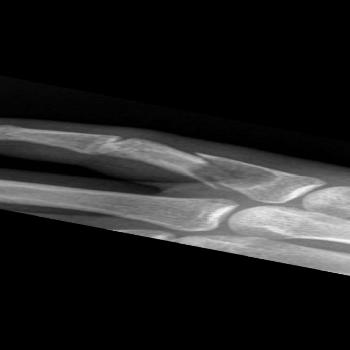Fracture: (181, 148, 247, 192)
